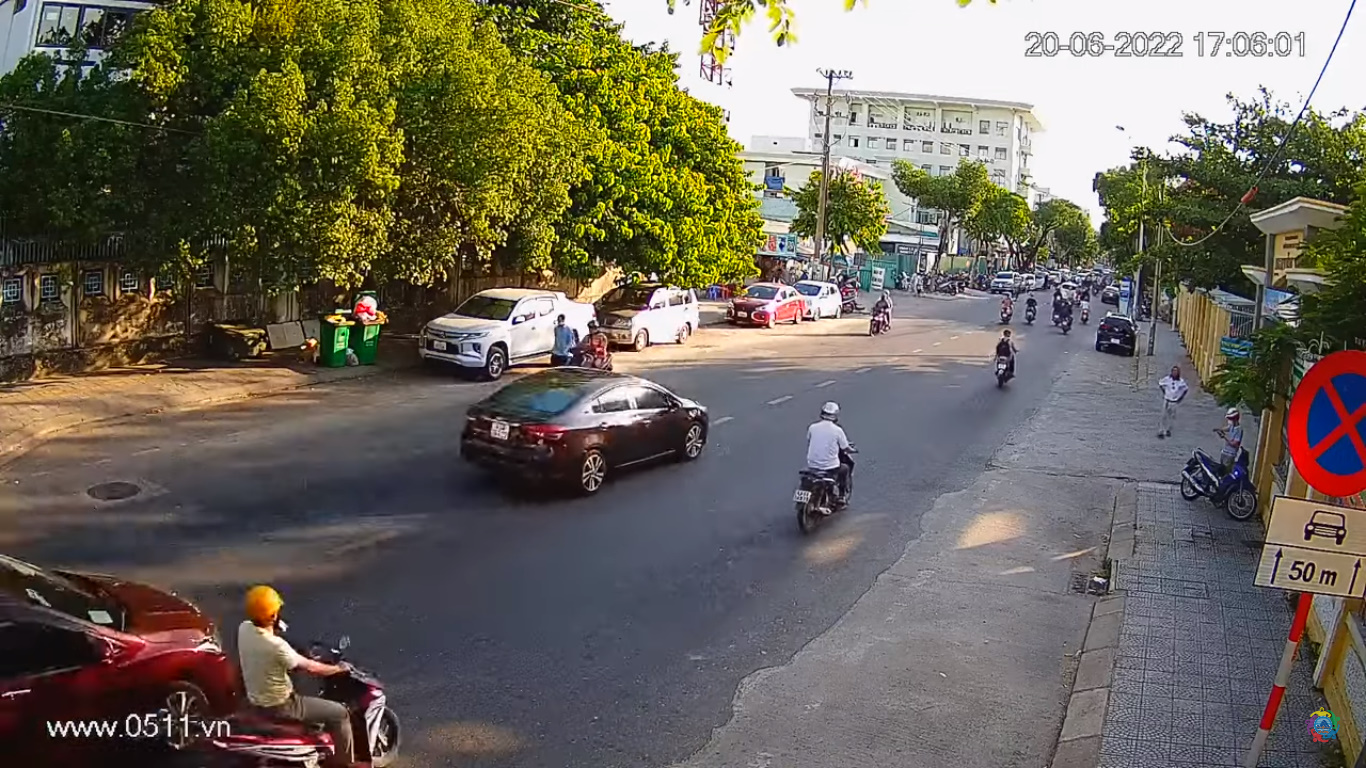car: (460, 370, 713, 497)
